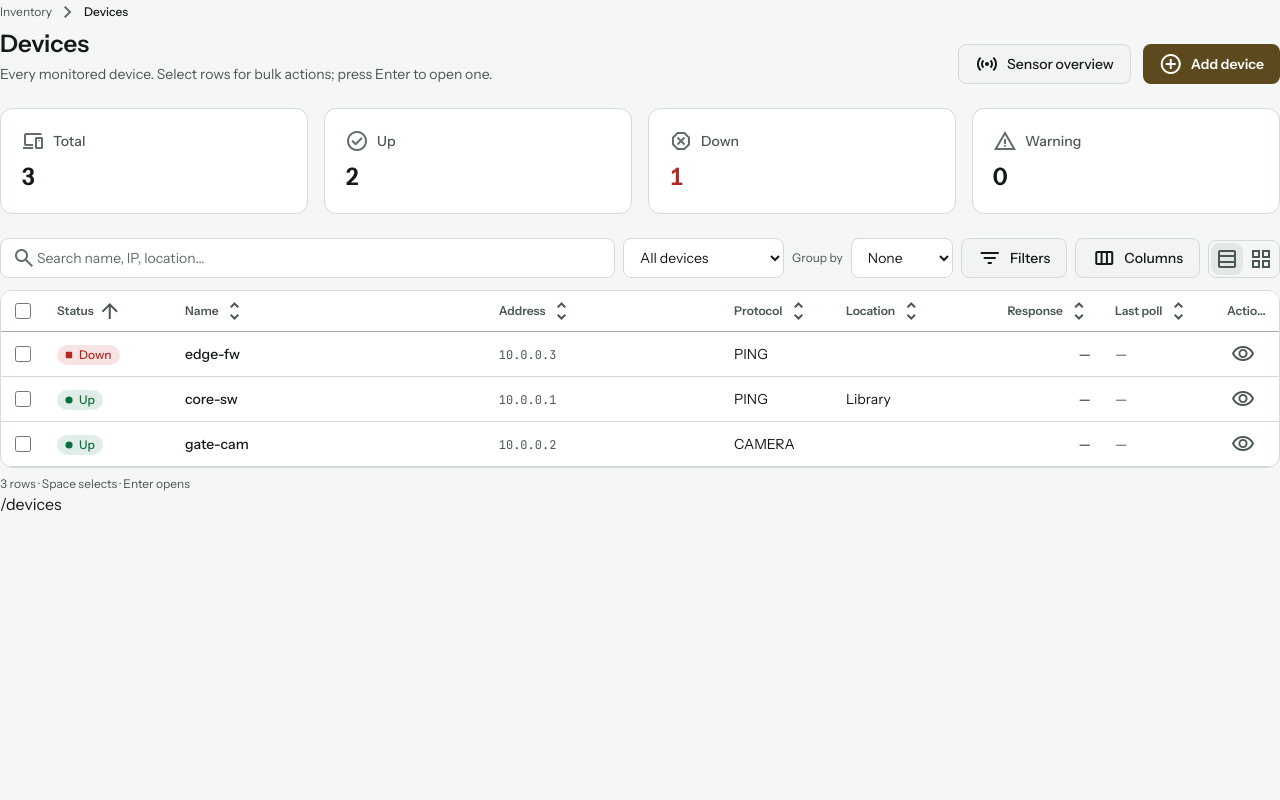
Scenario: Devices page › bulk-deletes only after the count is typed
Click the checkbox named "Select core-sw" at [23, 399], box [15,391,31,407]
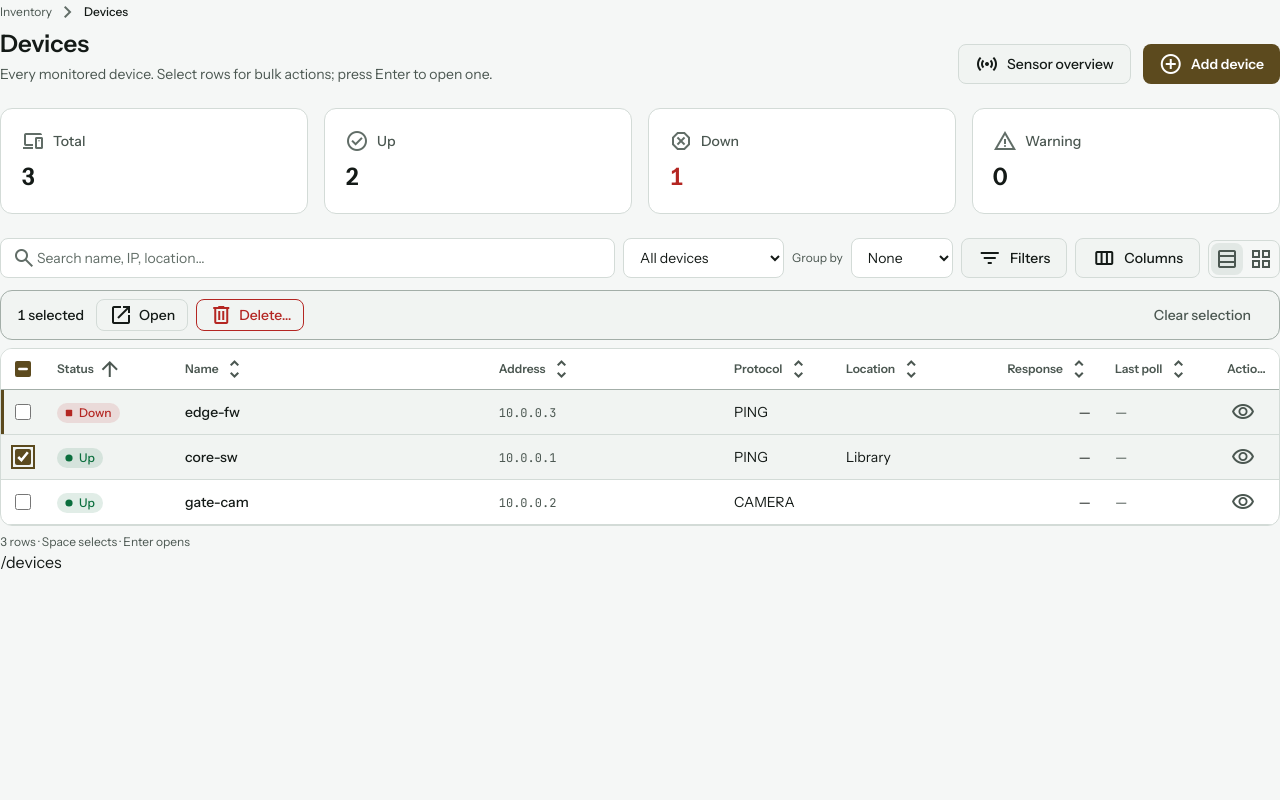
Click the checkbox named "Select edge-fw" at [23, 412], box [15,404,31,420]
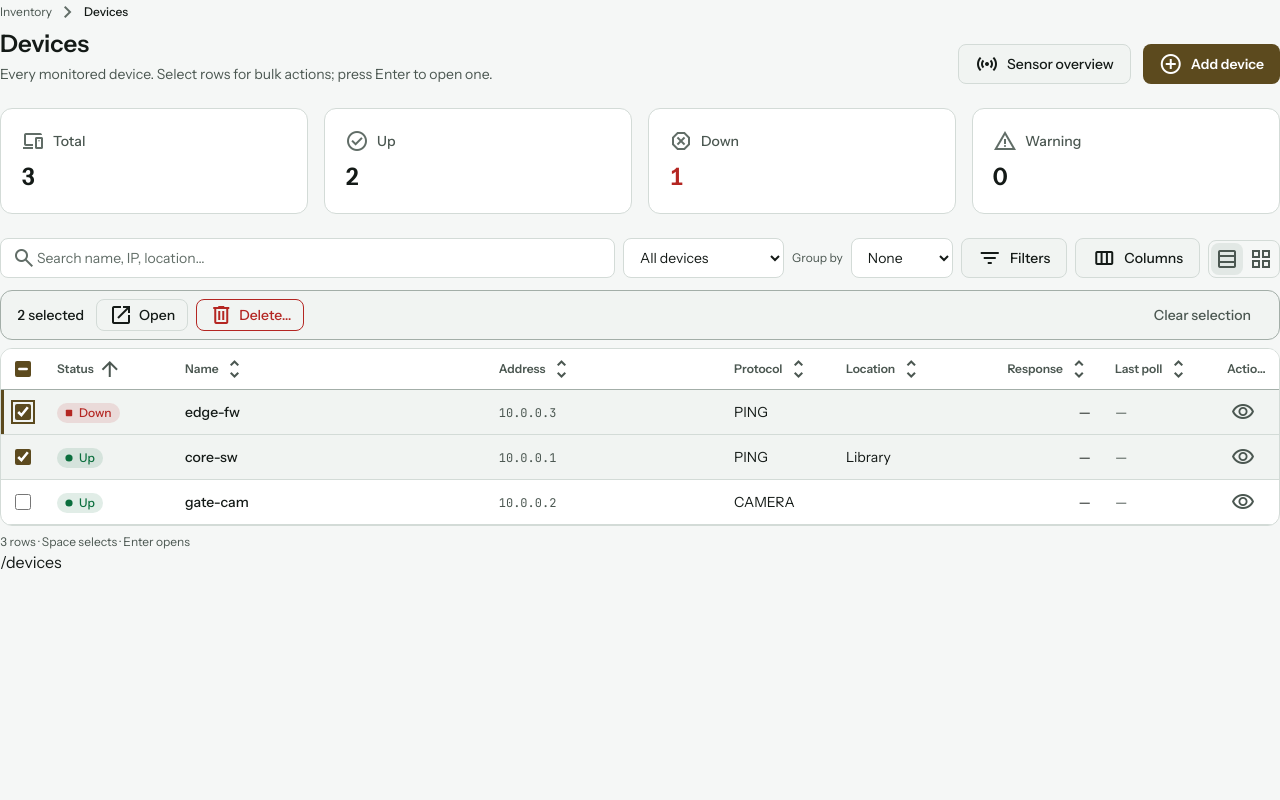
Click the button "Delete…" at [250, 315], box [196,299,304,331]
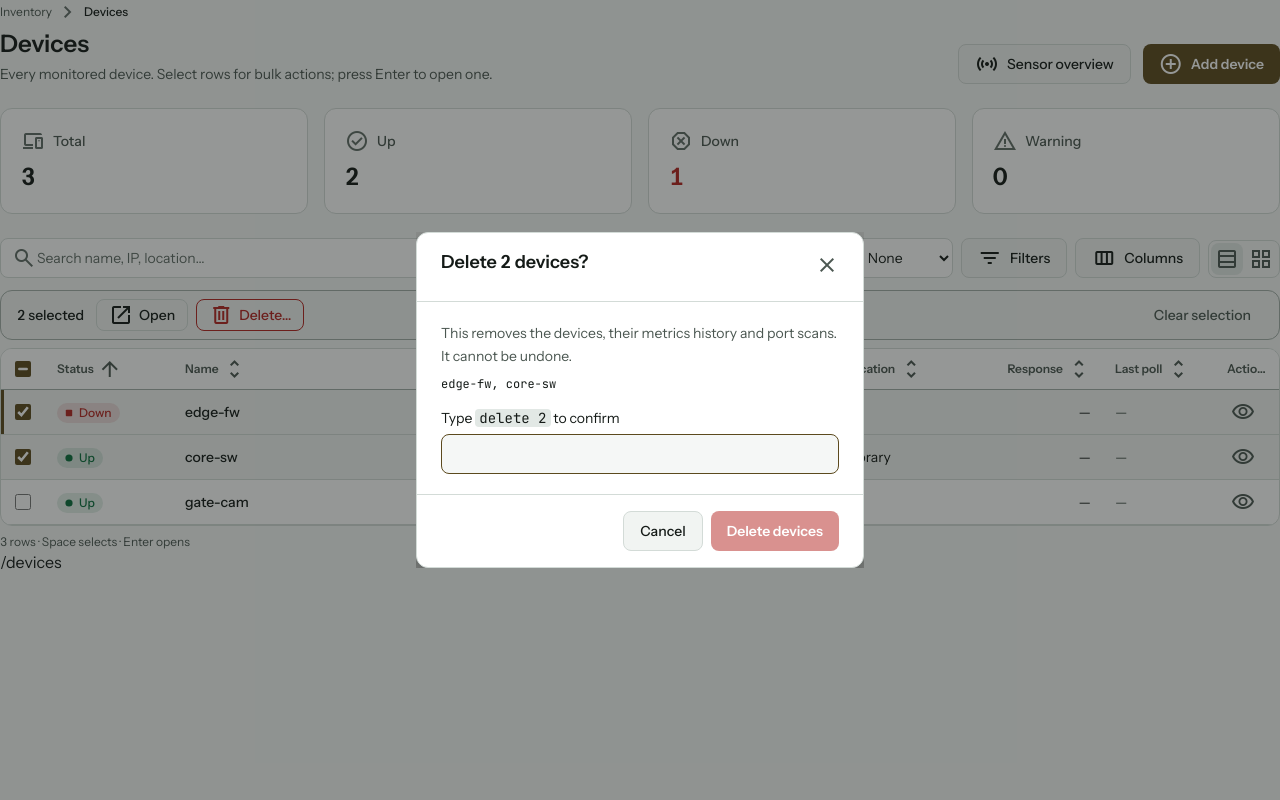
expect the button "Delete devices" is disabled: met, box [711,511,839,551]
Type "delete 2" into the field at [640, 454], box [441,434,839,474]
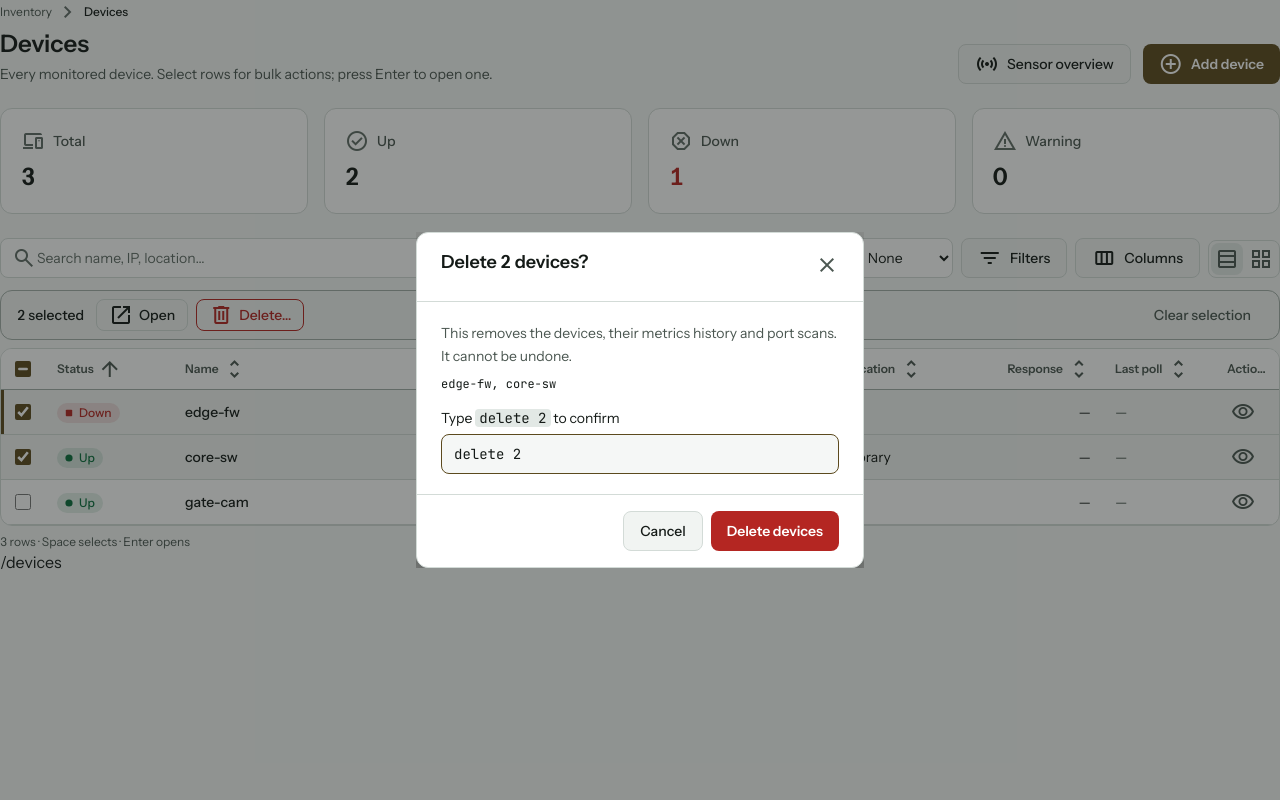
expect the button "Delete devices" is enabled: met
Click the button "Delete devices" at [775, 531], box [711,511,839,551]
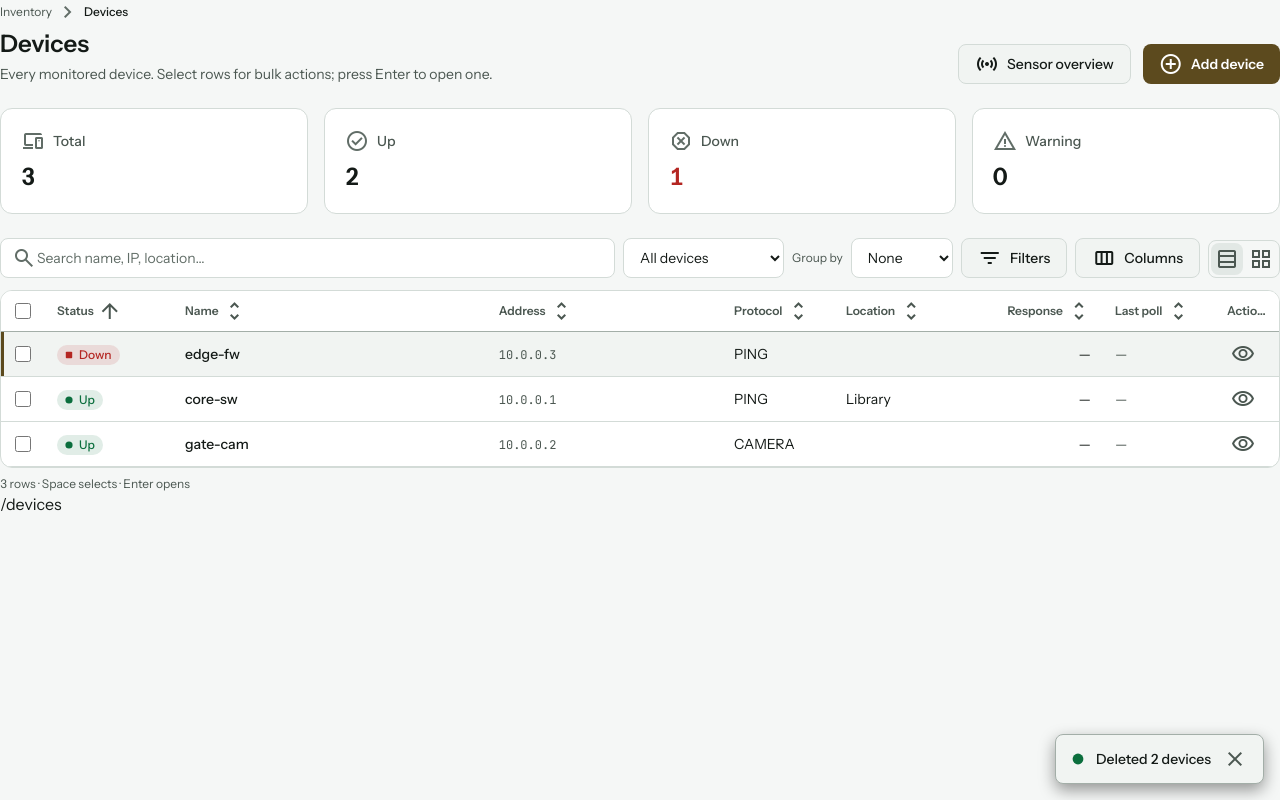
expect the text "Deleted 2 devices" is shown: met, box [1096,749,1211,769]
